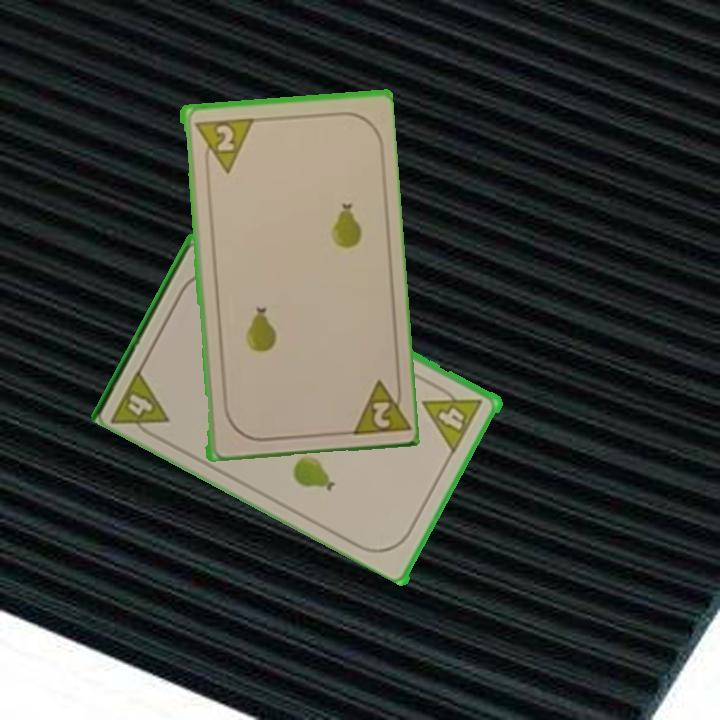2p: (344, 373, 409, 438), (190, 114, 254, 176)
4p: (108, 363, 174, 443), (420, 379, 486, 455)
